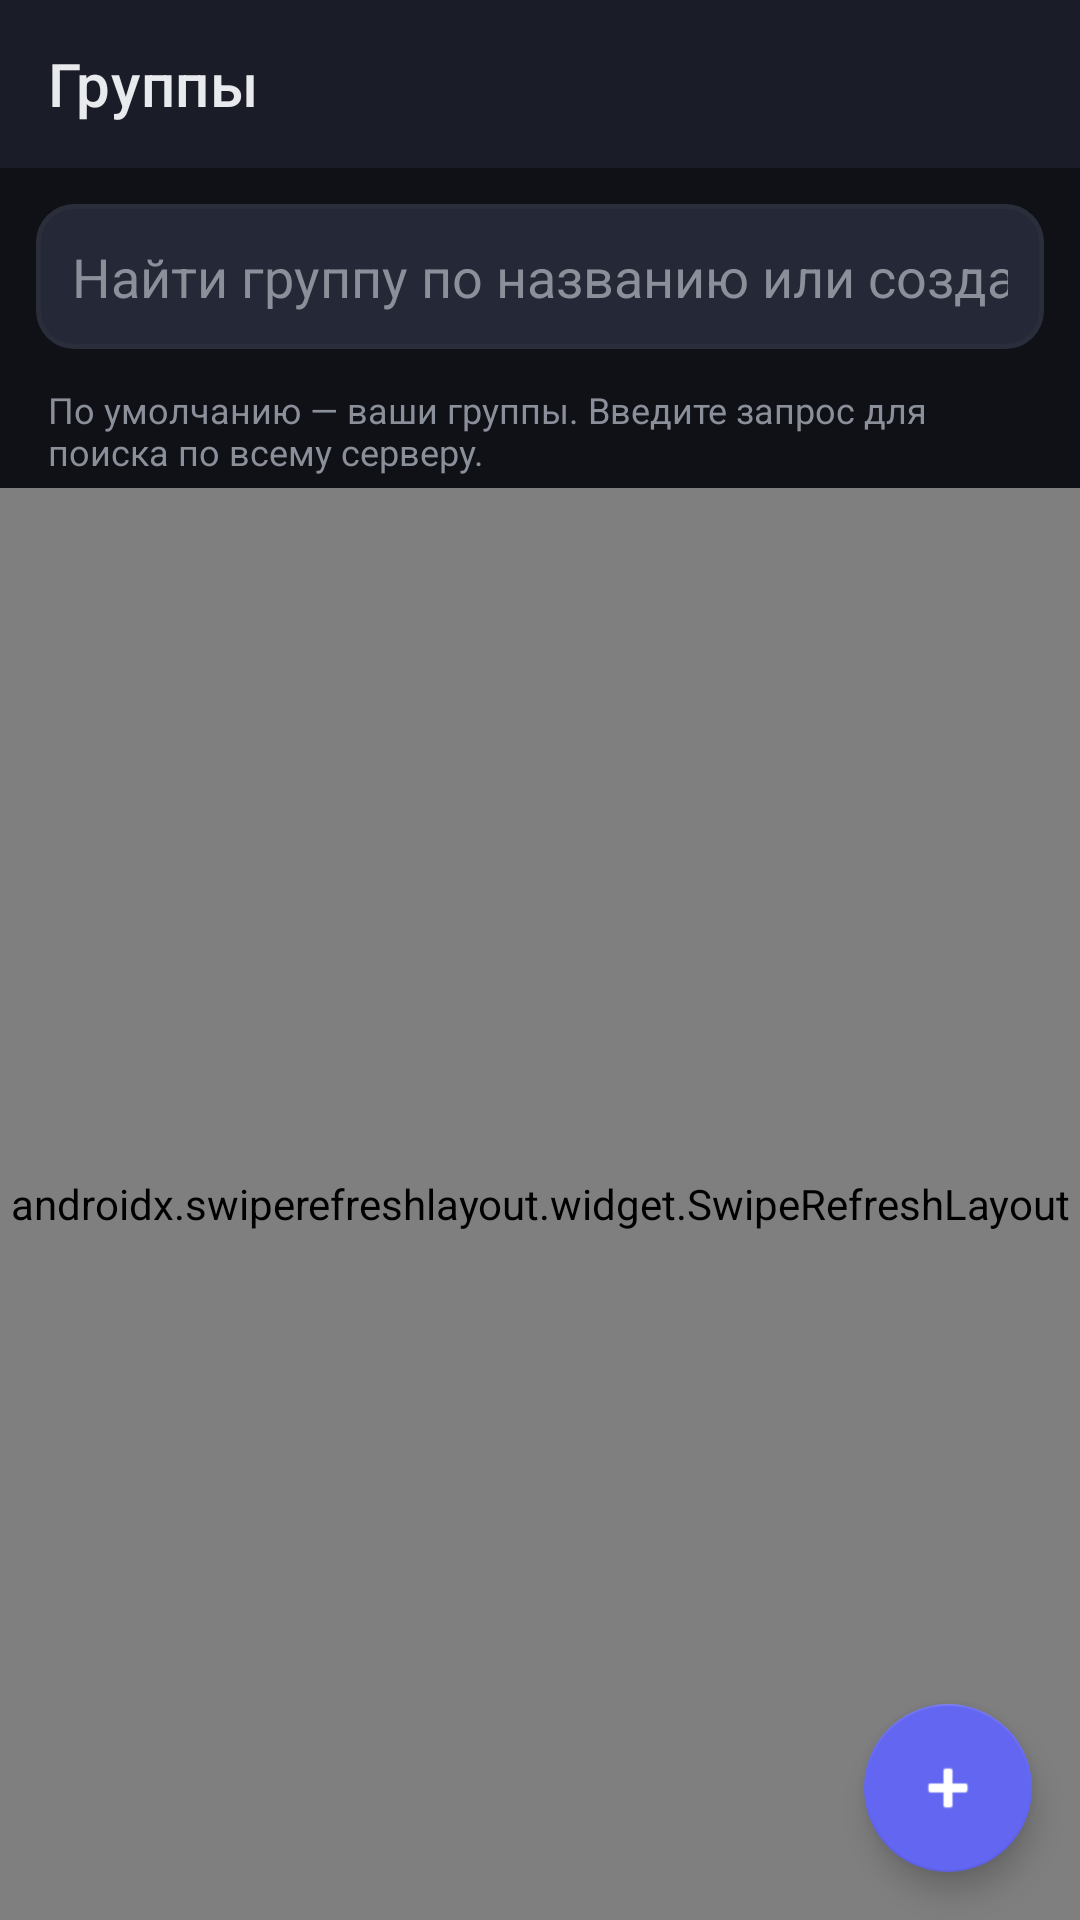

Icons on this 1080*1920 Android screen, each with its box as [left=x1, top=y1, right=x2, bottom=y2]:
Создать группу: [left=864, top=1704, right=1032, bottom=1872]
